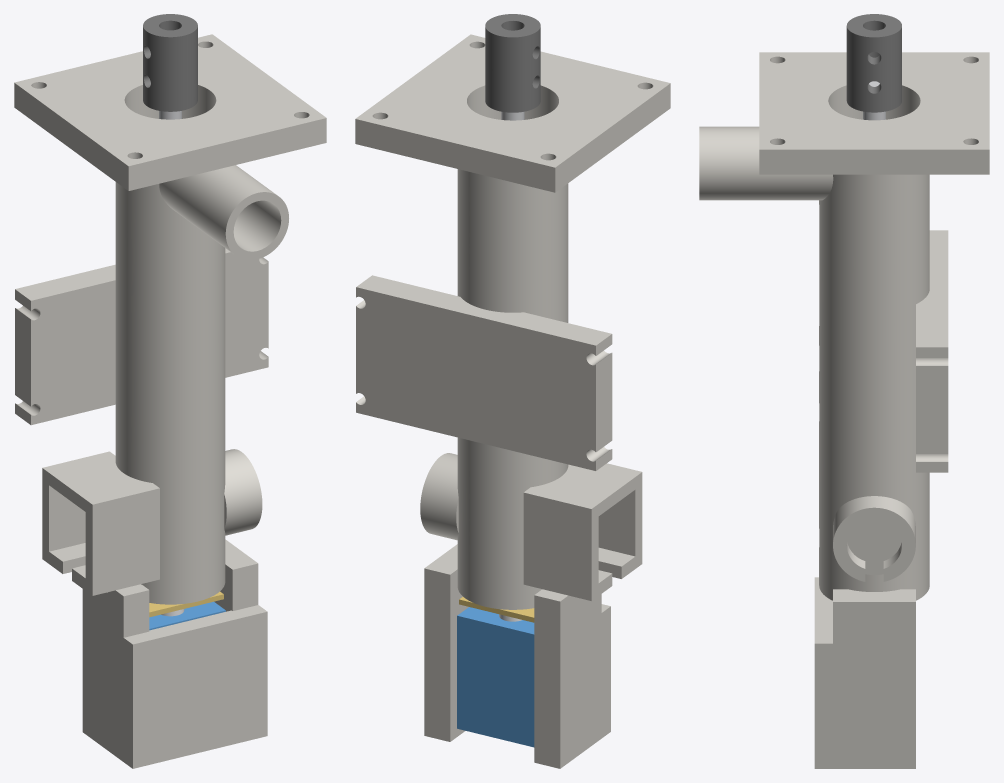
The model's file is full_system_source.gltf.
3 renders of one model, left to right at view 1: azimuth 30°, elevation 25°; view 2: azimuth 150°, elevation 25°; view 3: azimuth 270°, elevation 25°, orthographic.
Bounding box in the file's own units: 0.06 × 0.17 × 0.063.
